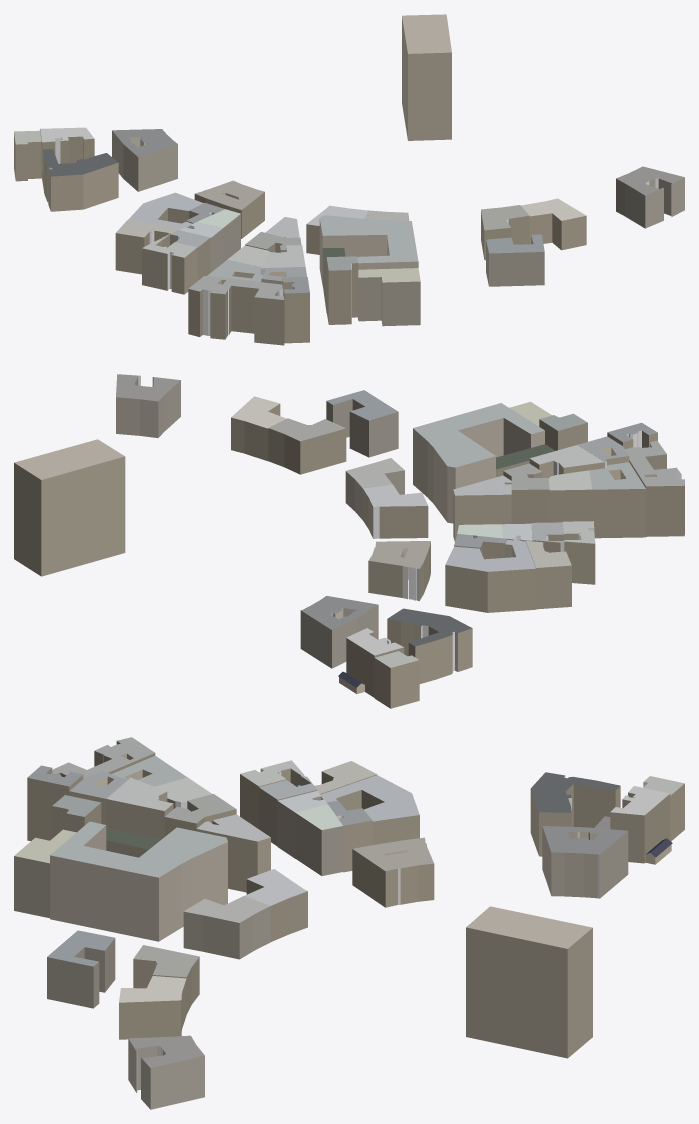
3 views of the same model, one above another, from view 1: azimuth 30°, elevation 25°; view 2: azimuth 150°, elevation 25°; view 3: azimuth 270°, elevation 25° (orthographic). The views are drawn at different scales.
Visible parts, largest first — view 1: tuile; view 2: tuile; view 3: tuile.
Boxes of the visible parts, <box> form: tuile: <box>14,14,684,345</box>; tuile: <box>14,374,684,708</box>; tuile: <box>14,737,684,1109</box>.
Size of the model in its own units: 286 by 50.75 by 262.
